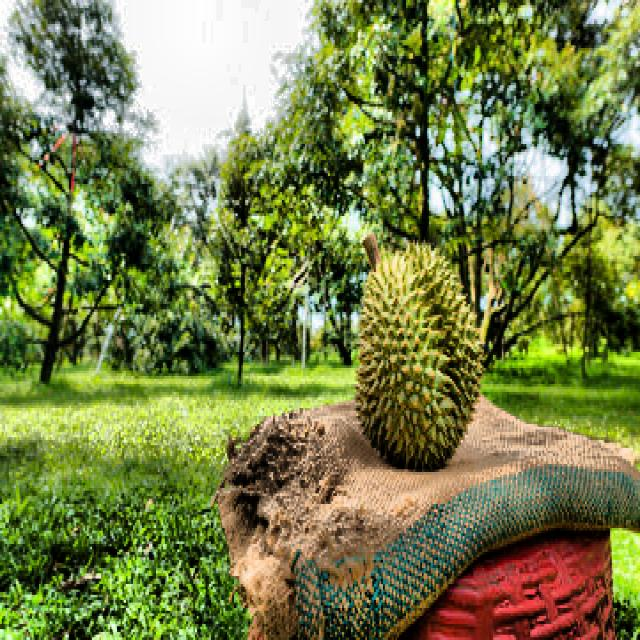arvore: (27, 41, 103, 403), (408, 0, 434, 256), (229, 172, 250, 401)
